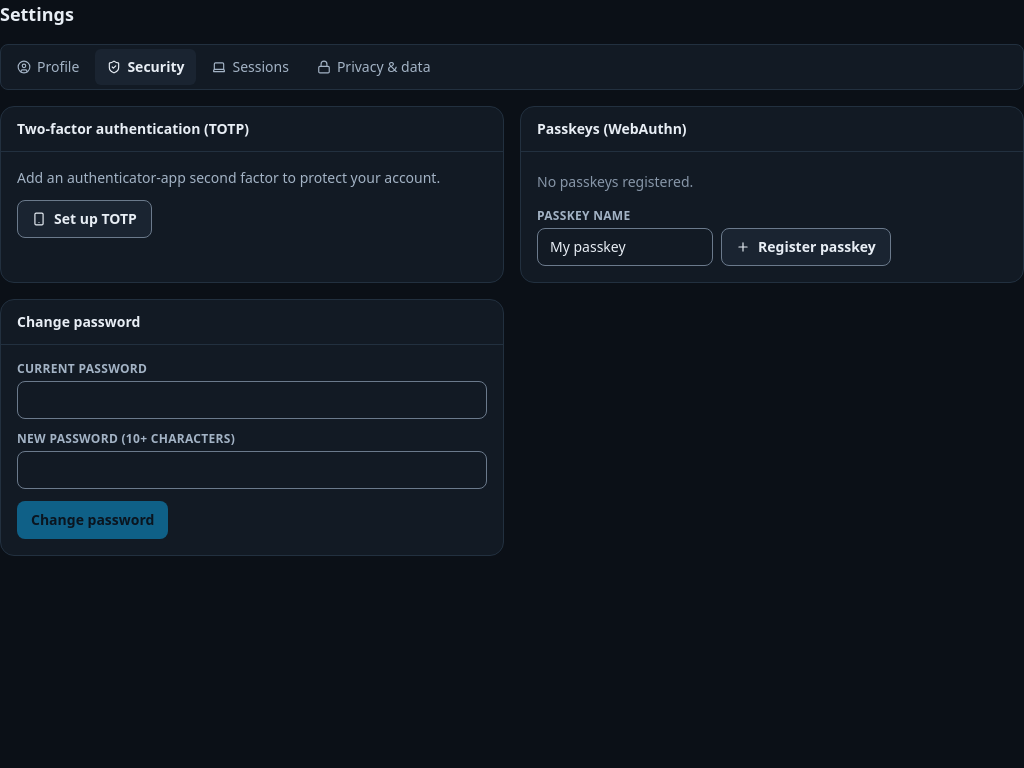
Test case: SettingsPage › runs the full TOTP setup: setup, confirm, recovery view (TI-36)
Click the button "Set up TOTP": point(84, 219) [17,200,152,238]
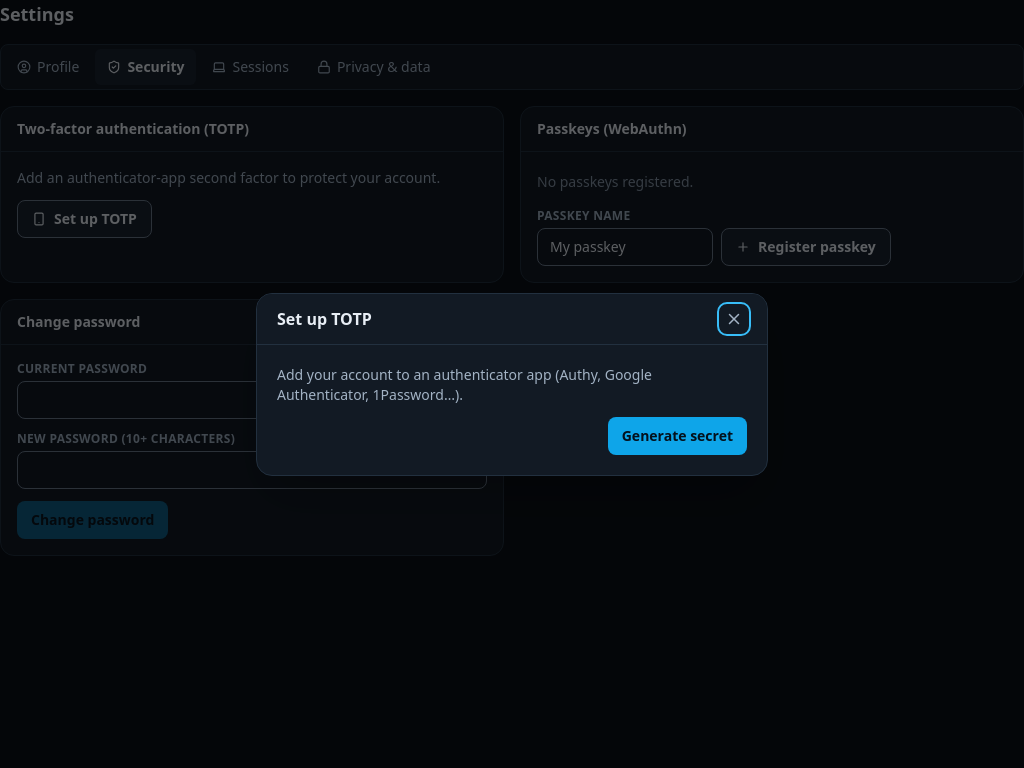
Click the button "Generate secret": point(677, 436) [608,416,747,454]
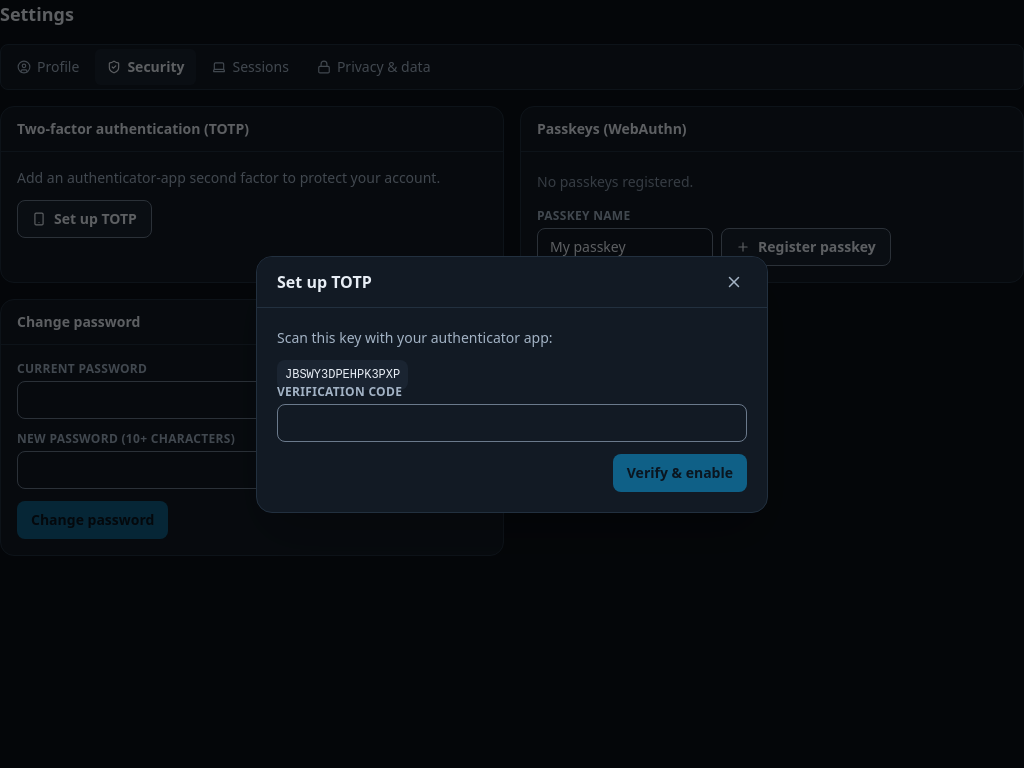
expect the text "Scan this key with your authenticator app:" is shown: met, box [277,328,552,346]
In the field labelled "Verification code": point(512, 422) [277,404,747,442], type "123456"
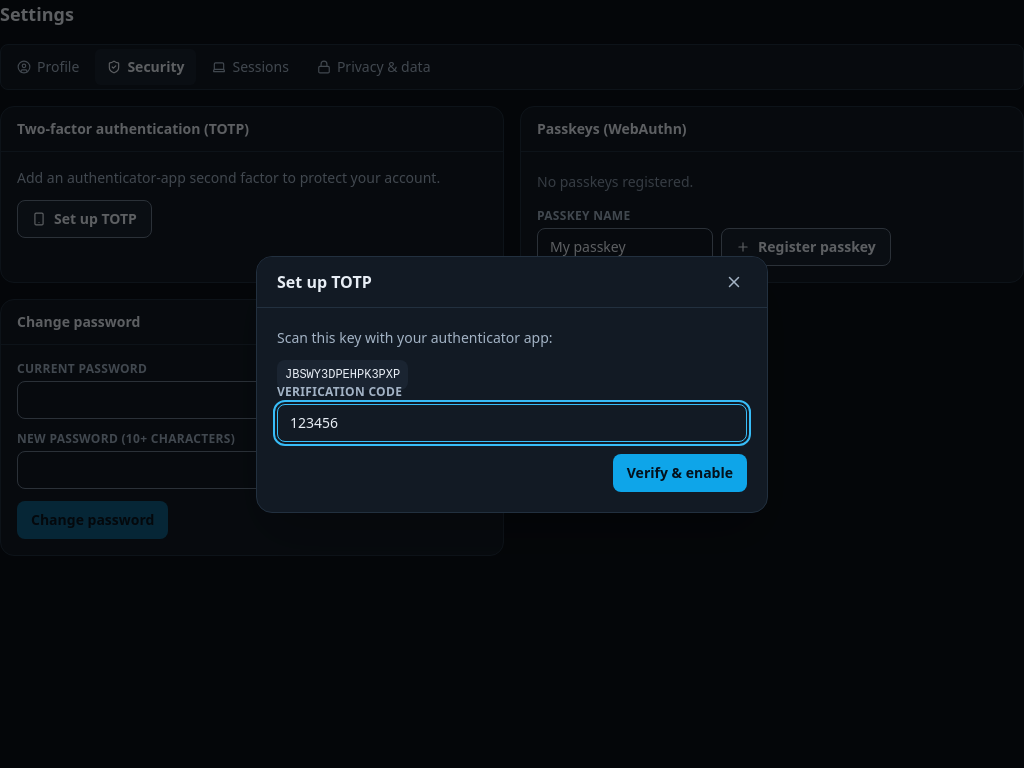
Click the button "Verify & enable": point(680, 472) [613,454,747,492]
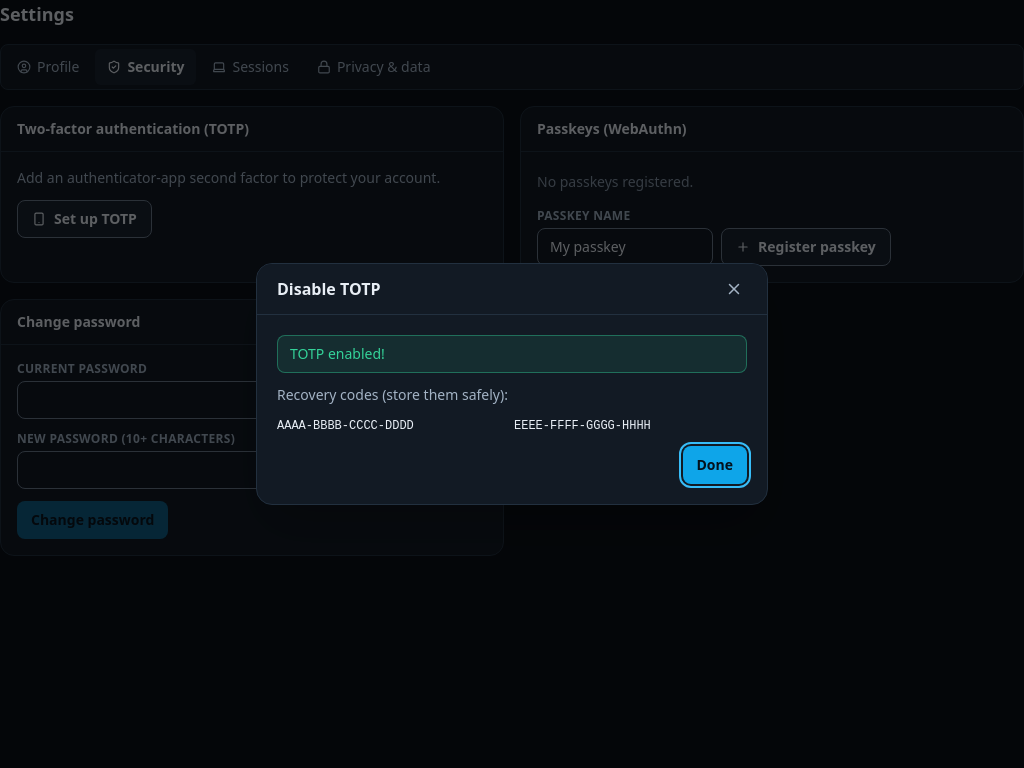
expect the text "TOTP enabled!" is shown: met, box [277,335,747,373]
expect the text "AAAA-BBBB-CCCC-DDDD" is shown: met, box [277,419,414,433]
Click the button "Done": point(715, 465) [682,446,747,484]
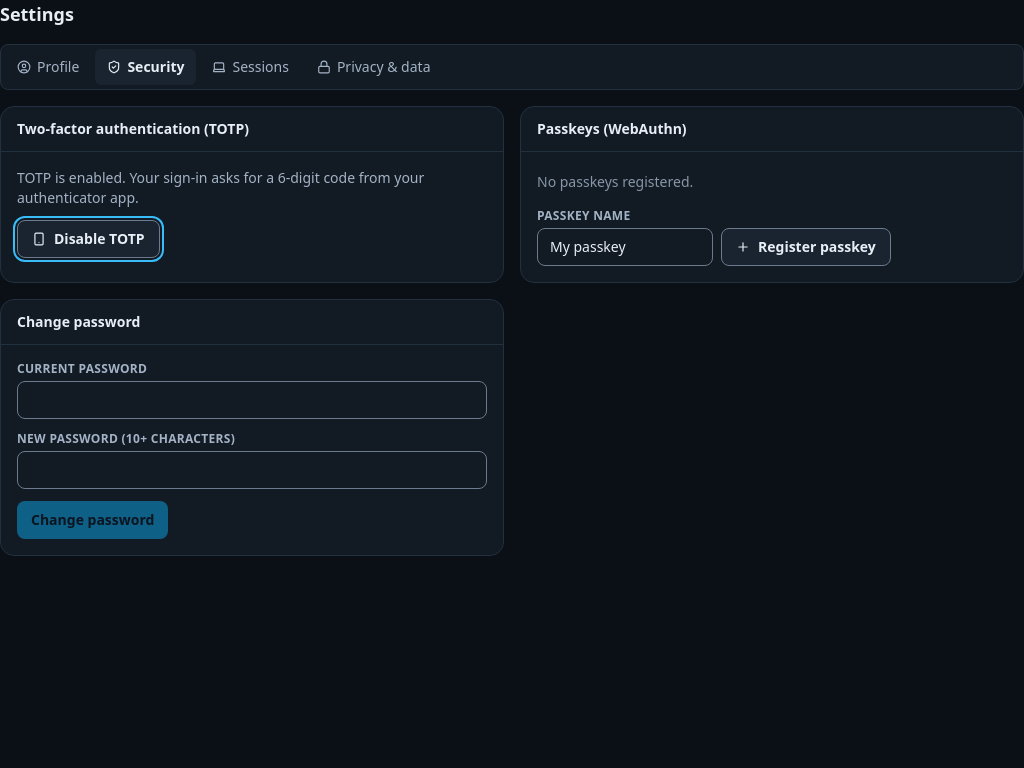
expect the text "TOTP enabled!" is gone: met
expect the button "Disable TOTP" is shown: met, box [17,220,160,258]
